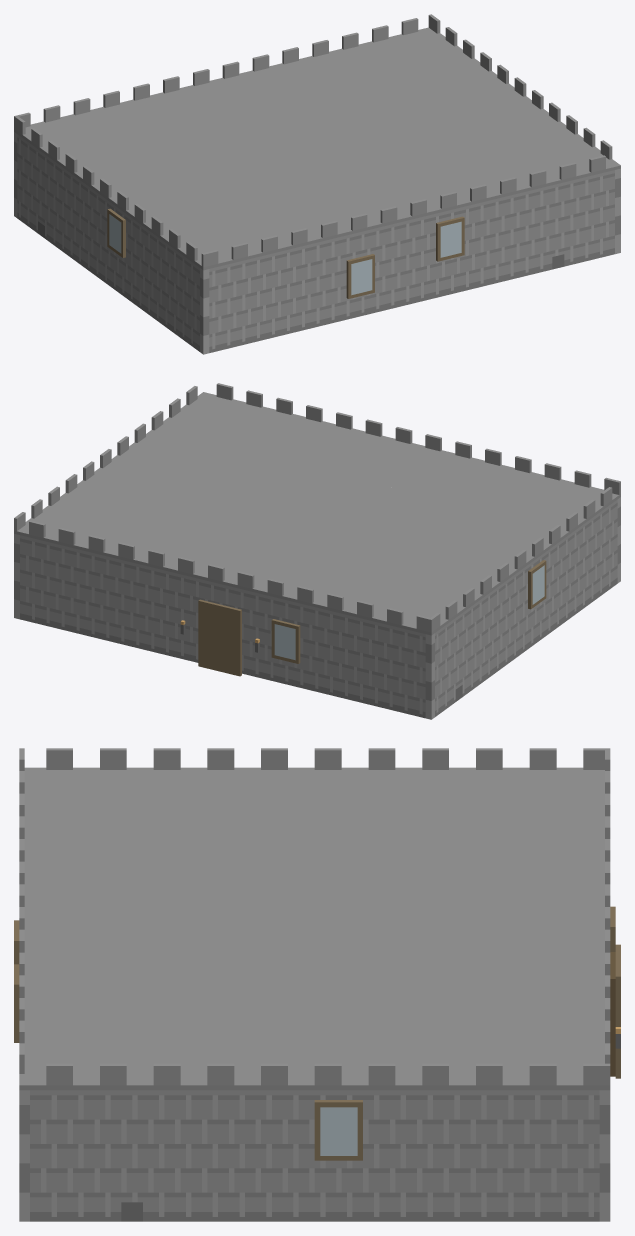
The model's file is arena_combate_04.glb.
3 renders of one model, top to bottom at view 1: azimuth 30°, elevation 25°; view 2: azimuth 150°, elevation 25°; view 3: azimuth 270°, elevation 25°, orthographic. The views are drawn at different scales.
Parts seen in each view (by area): view 1: arena_combate_04; view 2: arena_combate_04; view 3: arena_combate_04.
Part boxes in pixels (x1,y1,x2,y2): arena_combate_04: (14,14,620,354); arena_combate_04: (14,383,620,719); arena_combate_04: (14,748,620,1221).
Size of the model in its own units: 14.2 by 3.2 by 11.3.
